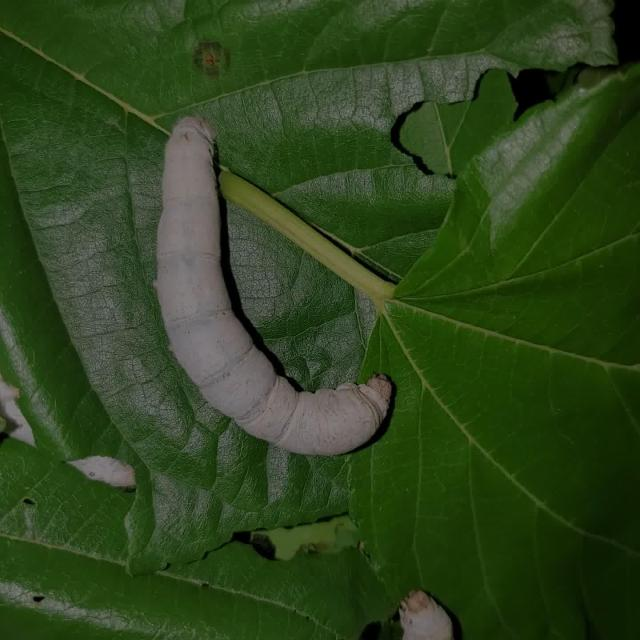Healthy: (124, 68, 416, 475)
